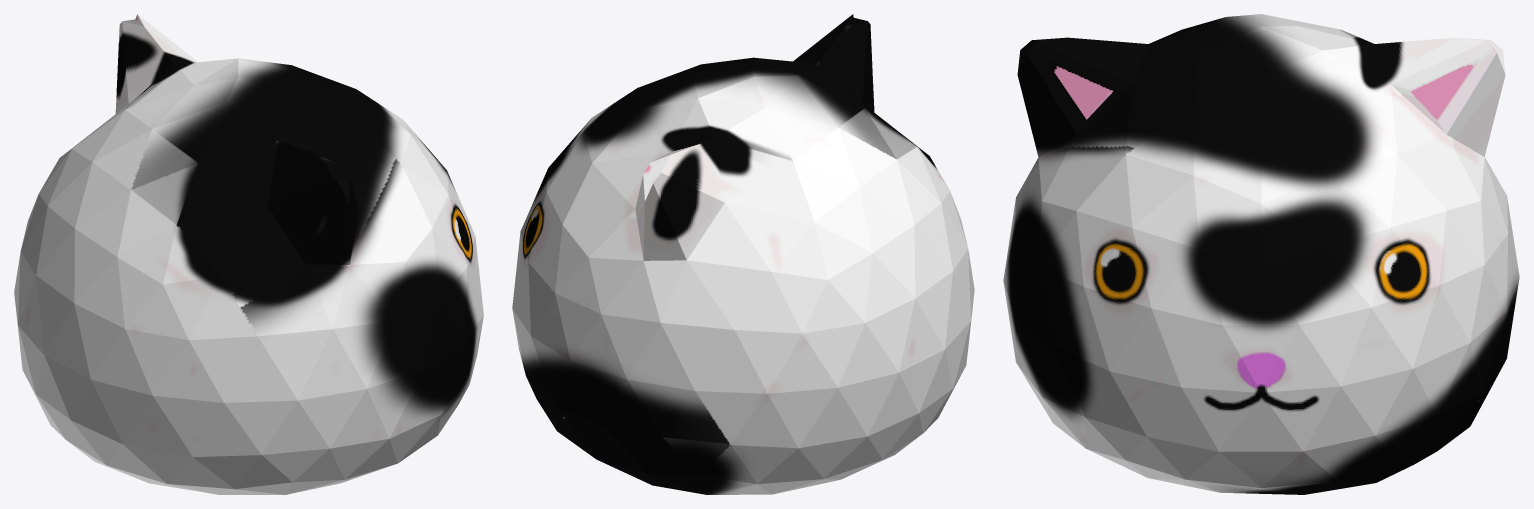
Rendered from Gatito.fbx.
3 renders of one model, left to right at view 1: azimuth 30°, elevation 25°; view 2: azimuth 150°, elevation 25°; view 3: azimuth 270°, elevation 25°, orthographic. The views are drawn at different scales.
Parts seen in each view (by area): view 1: Icosphere; view 2: Icosphere; view 3: Icosphere.
Boxes of the visible parts, left/top/right/bottom form: Icosphere: left=14, top=14, right=483, bottom=494; Icosphere: left=512, top=14, right=974, bottom=494; Icosphere: left=1003, top=14, right=1519, bottom=494.
Size of the model in its own units: 200 by 170 by 200.
1 material, 1 textured.
